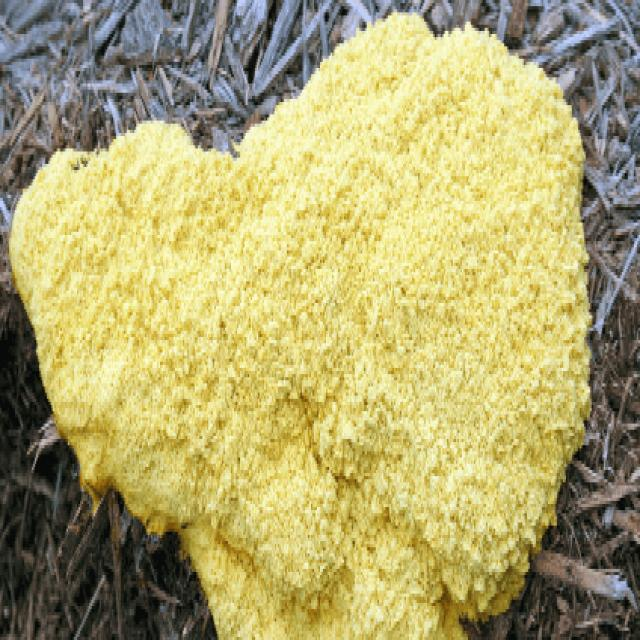Dog_vomit_slime_mold: (10, 54, 606, 640)
